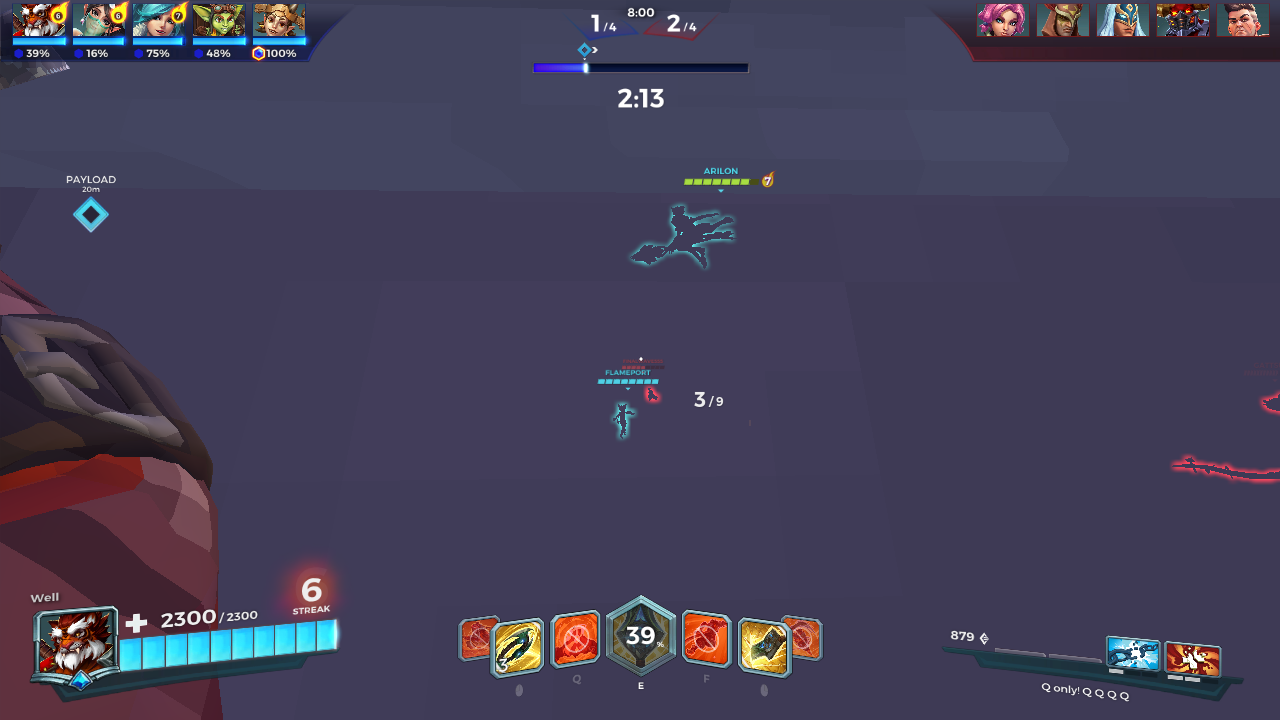model: (642, 387, 659, 403)
